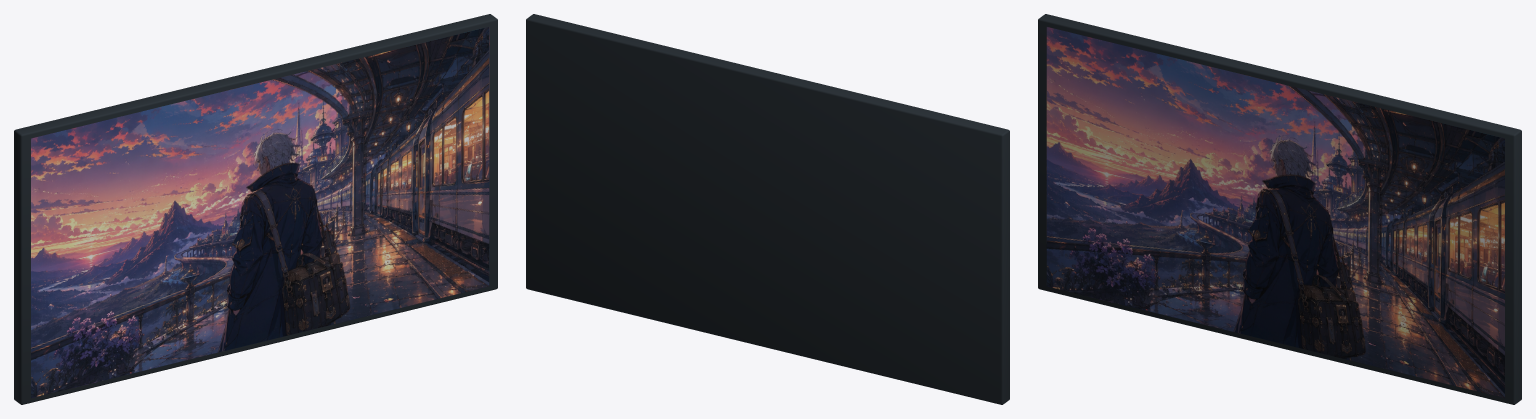
Rendered from anime-landscape-1.glb.
The picture shows the model from 3 angles, left to right: view 1: azimuth 30°, elevation 25°; view 2: azimuth 150°, elevation 25°; view 3: azimuth 330°, elevation 25°; orthographic projection.
Visible parts, largest first — view 1: anime-landscape-1; view 2: anime-landscape-1; view 3: anime-landscape-1.
Boxes of the visible parts, x1=… form: anime-landscape-1: x1=14, y1=14, x2=497, y2=404; anime-landscape-1: x1=526, y1=14, x2=1009, y2=404; anime-landscape-1: x1=1038, y1=14, x2=1521, y2=404.
Size of the model in its own units: 1.2 by 0.65 by 0.035.
Materials: 2 (1 with a texture image).
